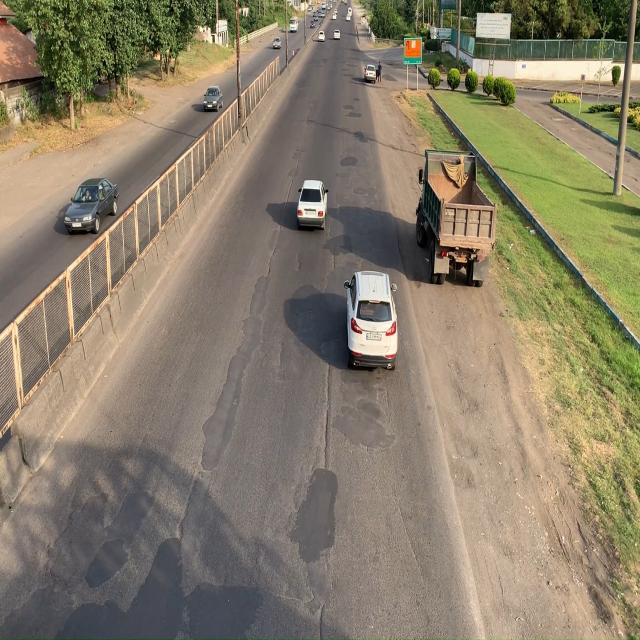Truck: (414, 148, 499, 290)
cars: (344, 269, 400, 375), (63, 177, 119, 236), (297, 176, 329, 232)
